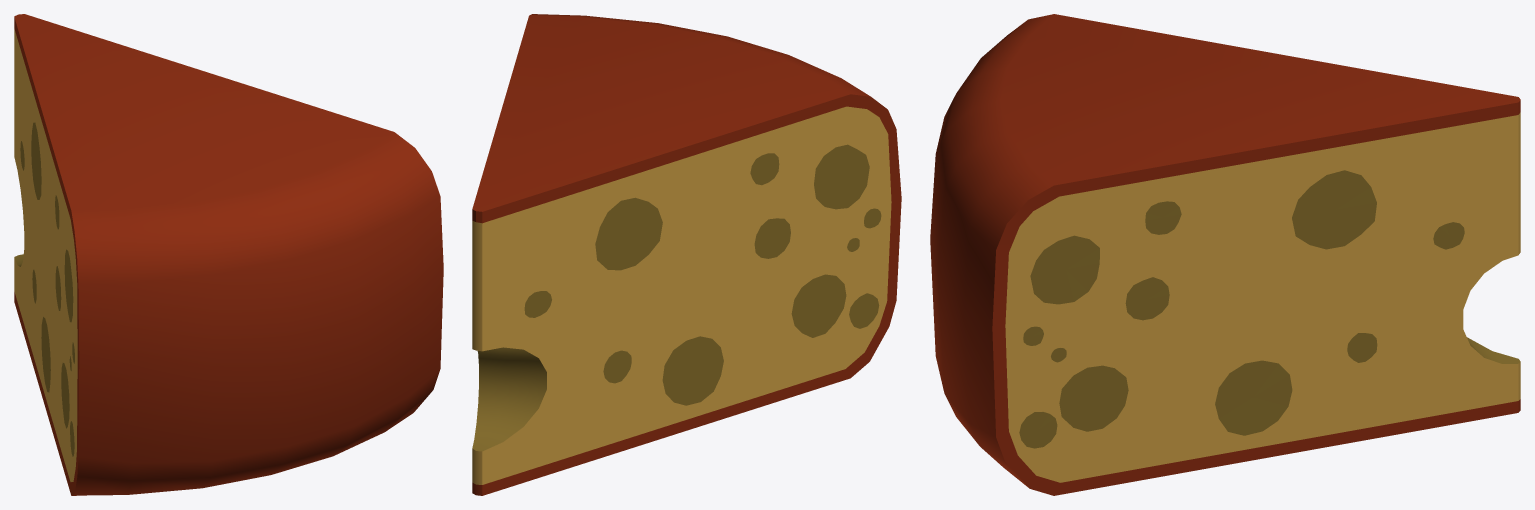
Rendered from CheeseNew.fbx.
3 renders of one model, left to right at view 1: azimuth 30°, elevation 25°; view 2: azimuth 150°, elevation 25°; view 3: azimuth 270°, elevation 25°, orthographic. The views are drawn at different scales.
Parts seen in each view (by area): view 1: node_id8 (×3); view 2: node_id8 (×3); view 3: node_id8 (×3).
Part boxes in pixels (x1,y1,x2,y2): node_id8 (×3): (14, 14, 443, 495); node_id8 (×3): (472, 14, 901, 495); node_id8 (×3): (930, 14, 1520, 495).
Size of the model in its own units: 0.512 by 0.3817 by 0.6581.
